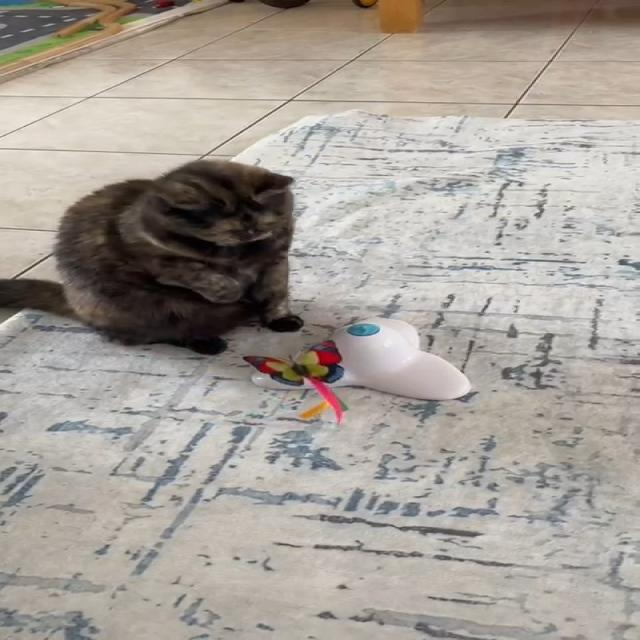authorized: (0, 158, 304, 356)
